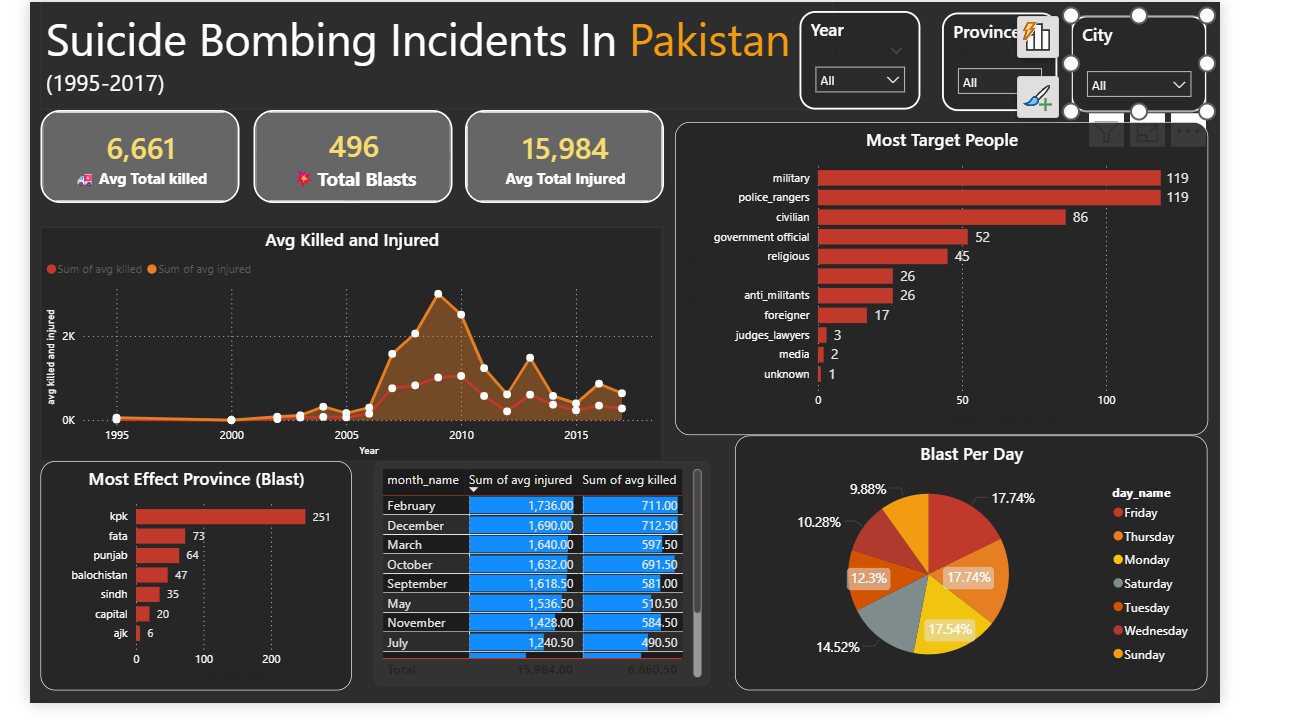

The dashboard page shown, as its layout file describes it:
{"tool":"powerbi","page":{"name":"Page 1","canvas":[1280,754],"ordinal":0},"visuals":[{"type":"textbox","box":[11.3,0,852.8,115.1],"z":0},{"type":"slicer","title":"Year","fields":{"Values":["cleaned_explosions.Year"]},"box":[828,10,130,106],"z":1000},{"type":"slicer","title":"Province","fields":{"Values":["cleaned_explosions.Province"]},"box":[980,12,124,106],"z":2000},{"type":"slicer","title":"City","fields":{"Values":["cleaned_explosions.City"]},"box":[1120,14,146,104],"z":3000},{"type":"cardVisual","fields":{"Data":["CountNonNull(cleaned_explosions.Year)"]},"box":[240,116,214,100],"z":4000},{"type":"cardVisual","fields":{"Data":["Sum(cleaned_explosions.avg killed)"]},"box":[12,116,214,100],"z":5000},{"type":"cardVisual","fields":{"Data":["Sum(cleaned_explosions.avg injured)"]},"box":[468,116,214,100],"z":6000},{"type":"lineChart","title":"Avg Killed and Injured","fields":{"Category":["cleaned_explosions.Year"],"Y":["Sum(cleaned_explosions.avg killed)","Sum(cleaned_explosions.avg injured)"]},"box":[12.1,241.4,669,251.7],"z":7000},{"type":"clusteredBarChart","title":"Most Effect Province (Blast)","fields":{"Category":["cleaned_explosions.Province"],"Y":["CountNonNull(cleaned_explosions.Year)"]},"box":[12.1,493.1,334.5,246.6],"z":8000},{"type":"clusteredBarChart","title":"Most Target People","fields":{"Category":["cleaned_explosions.Target Type"],"Y":["CountNonNull(cleaned_explosions.Target Type)"]},"box":[693,129.6,573.2,336.6],"z":9000},{"type":"pieChart","title":"Blast Per Day","fields":{"Y":["CountNonNull(cleaned_explosions.Blast Day Type)"],"Category":["cleaned_explosions.day_name"]},"box":[758,466,508,274],"z":10000},{"type":"tableEx","fields":{"Values":["cleaned_explosions.month_name","Sum(cleaned_explosions.avg injured)","Sum(cleaned_explosions.avg killed)"]},"box":[370,494,362,242],"z":11000}]}

Visuals, with their boxes on the page's 1280x754 design canvas (x1, y1, x2, y2). These are canvas units, not pixel positions in the 1309x726 screenshot, which may show the page scaled, cropped or inside an application window:
textbox: box=[11, 0, 864, 115]
"Year" slicer: box=[828, 10, 958, 116]
"Province" slicer: box=[980, 12, 1104, 118]
"City" slicer: box=[1120, 14, 1266, 118]
cardVisual - CountNonNull(cleaned_explosions.Year): box=[240, 116, 454, 216]
cardVisual - Sum(cleaned_explosions.avg killed): box=[12, 116, 226, 216]
cardVisual - Sum(cleaned_explosions.avg injured): box=[468, 116, 682, 216]
"Avg Killed and Injured" lineChart: box=[12, 241, 681, 493]
"Most Effect Province (Blast)" clusteredBarChart: box=[12, 493, 347, 740]
"Most Target People" clusteredBarChart: box=[693, 130, 1266, 466]
"Blast Per Day" pieChart: box=[758, 466, 1266, 740]
tableEx - cleaned_explosions.month_name x Sum(cleaned_explosions.avg injured): box=[370, 494, 732, 736]
